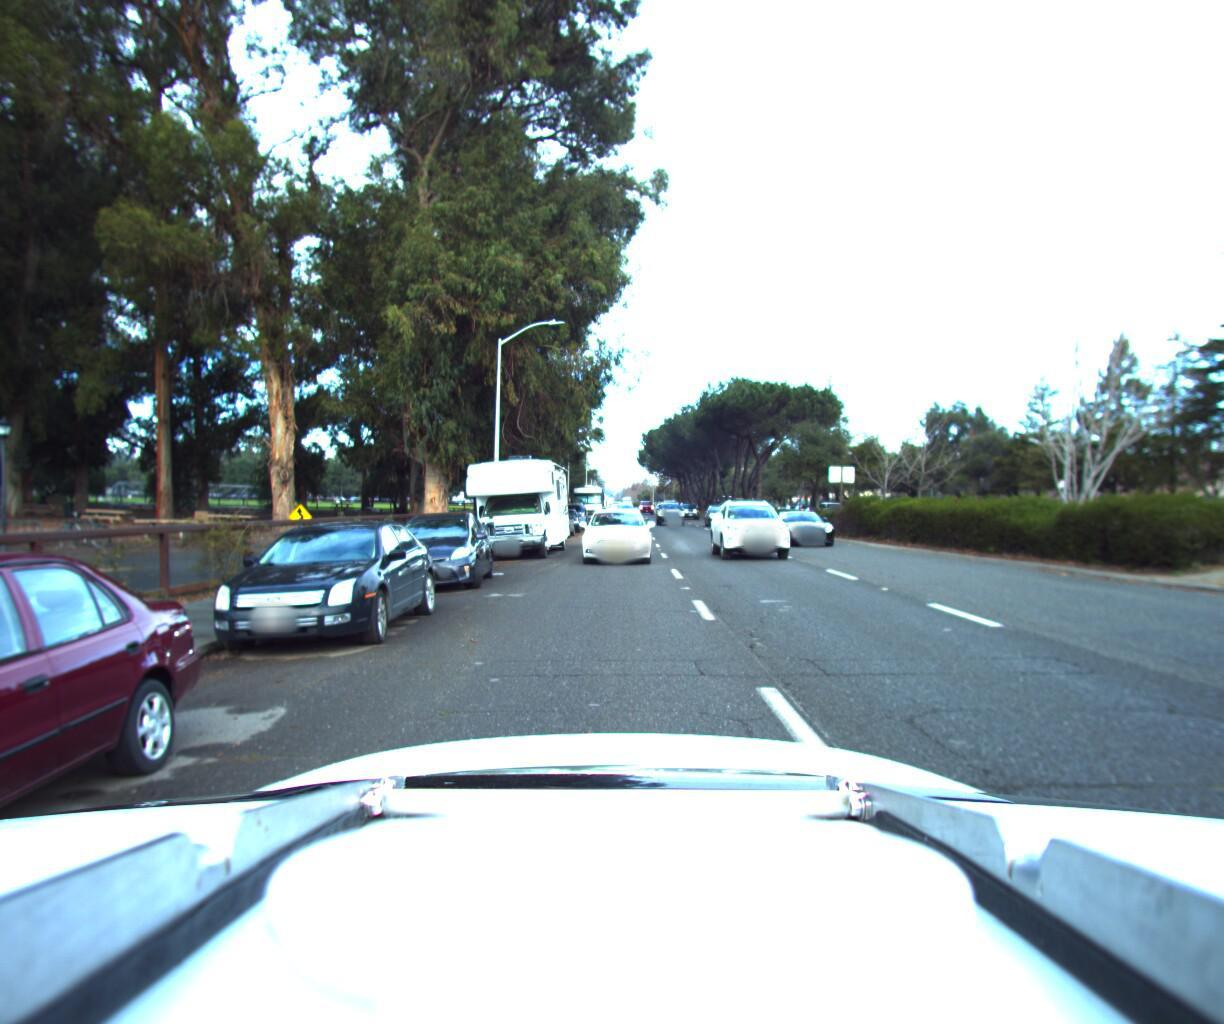car: (180, 509, 455, 663), (374, 504, 505, 594), (709, 494, 813, 561), (1124, 493, 1224, 550), (571, 502, 652, 564), (1156, 500, 1224, 547), (781, 504, 849, 543), (654, 492, 687, 522), (547, 501, 583, 528), (682, 495, 703, 513)
motorcycle: (440, 506, 509, 569)
other_vehicle: (452, 445, 573, 560), (570, 477, 605, 516)
